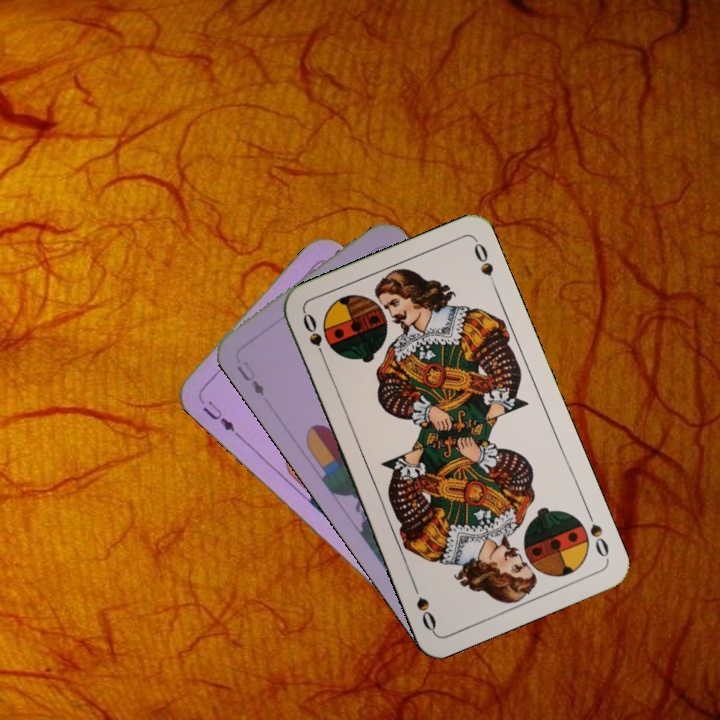EU: (195, 393, 242, 439), (233, 356, 267, 398)
SO: (299, 308, 329, 365), (582, 505, 612, 560)
